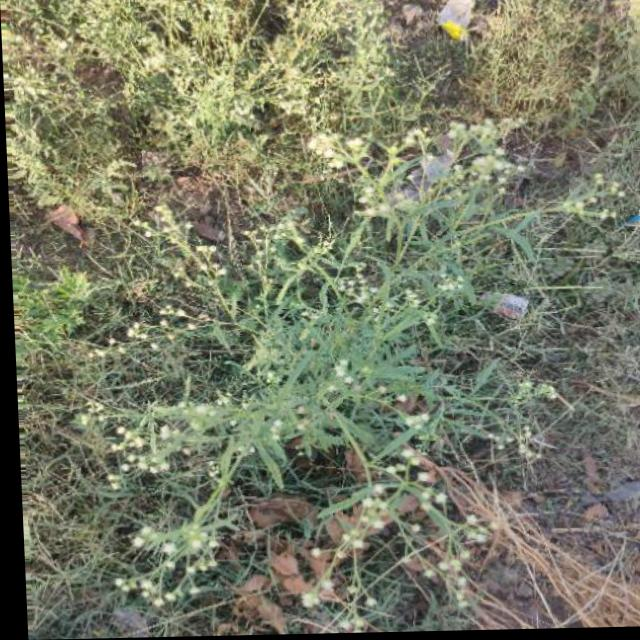weed: (64, 193, 568, 599), (53, 0, 620, 180)
